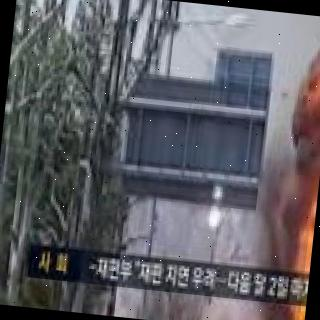fire: (290, 168, 320, 279), (284, 309, 305, 320)
